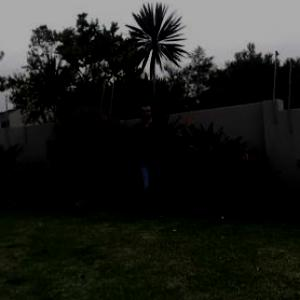land: (98, 96, 202, 228)
